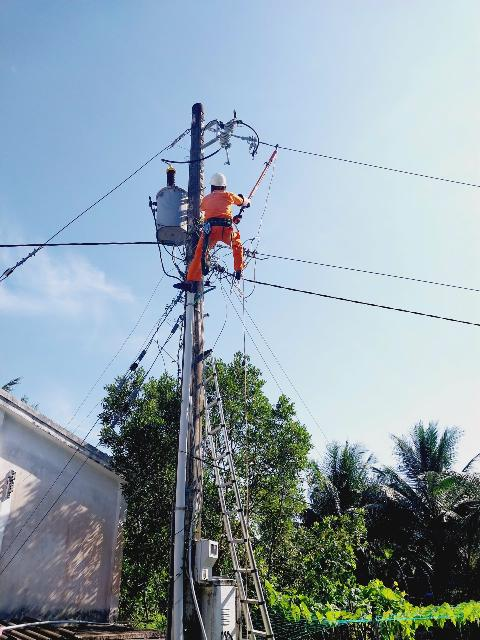gloves: (237, 188, 257, 210)
harness: (199, 212, 237, 229)
helmet: (208, 170, 235, 192)
shoes: (169, 275, 205, 296)
